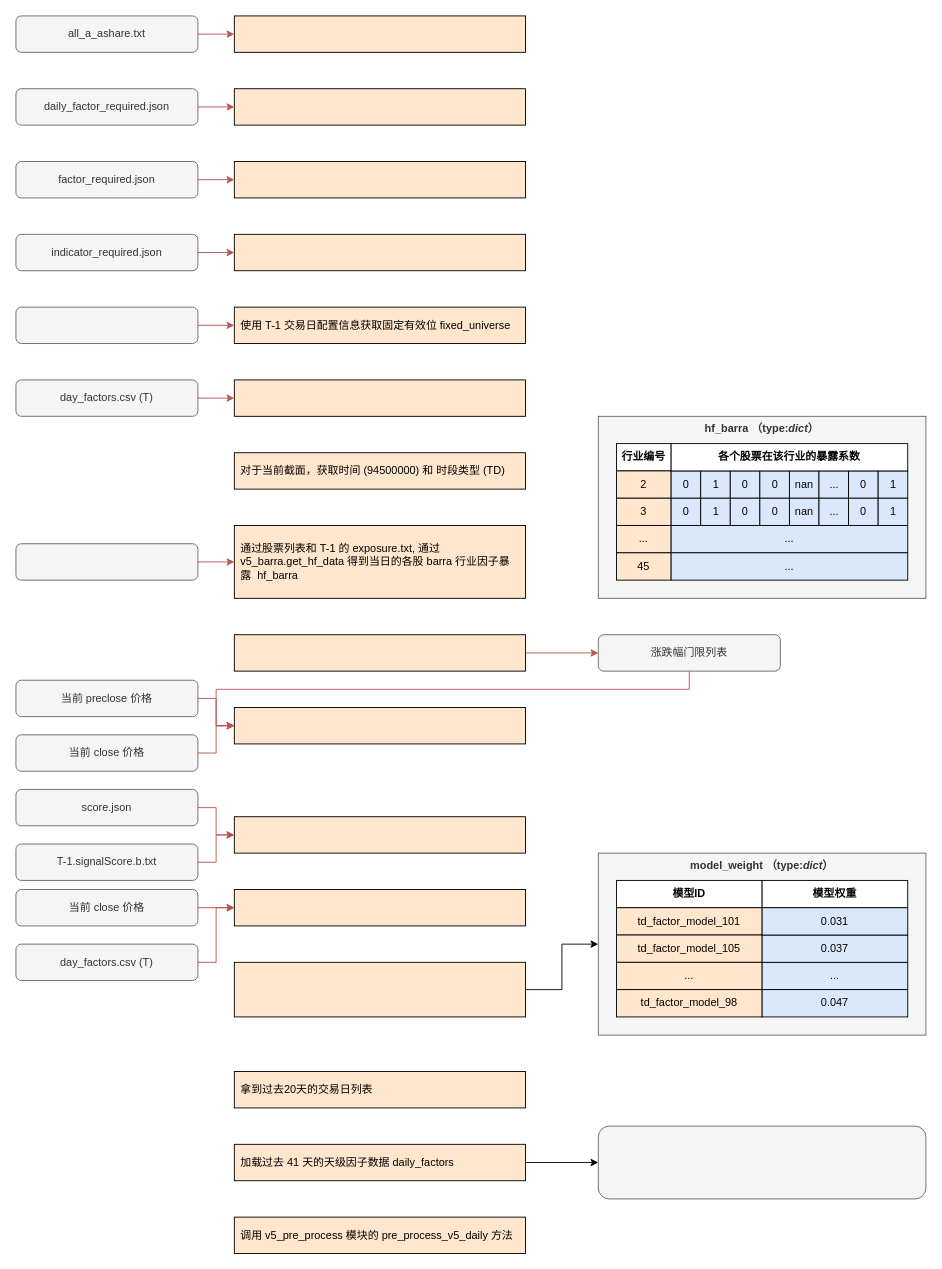
The diagram is 942 pixels wide and 1269 high, and some of its shapes have lost their labels. Each missing label, with the centre of its shape:
"daily_factors (type: ndarray) (天级因子数)82 * (股票数)4590 * (天数)41" goes at pixel 761 1162.
"day_factors.csv (T-1)" goes at pixel 106 325.
"exposure.txt (T-1)" goes at pixel 106 561.
"创建权重计算模块 model_score" goes at pixel 379 834.
"加载天级因子列表，指示当日需要用的天级因子列表" goes at pixel 379 106.
"加载指标列表，表示每个时段需要使用哪些指标" goes at pixel 379 252.
"加载日内因子列表，指示当日内不同时段需要用到的指标列表" goes at pixel 379 179.
"加载股票列表" goes at pixel 379 33.
"拿到当天的调价因子 adjfactor" goes at pixel 379 397.
"更新最新价格到权重计算模块中" goes at pixel 379 907.
"根据股票代码生成每支票的涨跌幅门限列表" goes at pixel 379 652.
"计算当前分钟截面的 universe" goes at pixel 379 725.
"调用权重计算模块的 get_model_weight(当前时间) 方法，得到模型权重 model_weight 字典，维护当前时点的所有模型权重值" goes at pixel 379 989.
